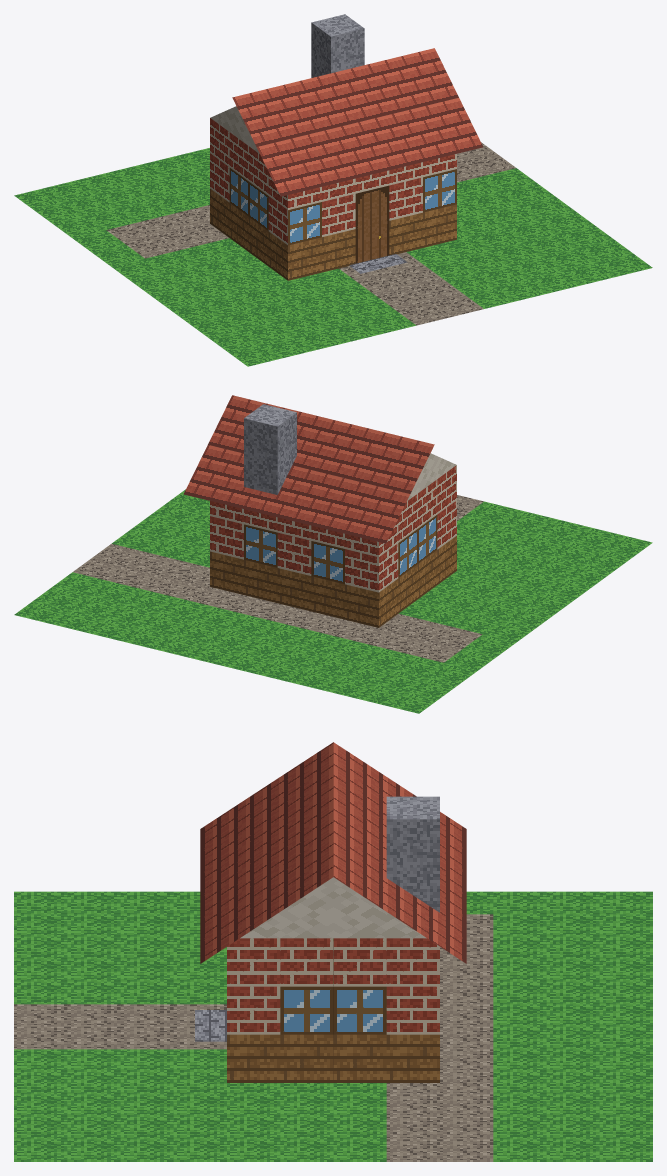
Rendered from models.glb.
3 renders of one model, top to bottom at view 1: azimuth 30°, elevation 25°; view 2: azimuth 150°, elevation 25°; view 3: azimuth 270°, elevation 25°, orthographic. The views are drawn at different scales.
Parts seen in each view (by area): view 1: ground, house; view 2: ground, house; view 3: ground, house.
Part boxes in pixels (x1,y1,x2,y2): ground: (14, 142, 652, 366); house: (210, 14, 482, 280); ground: (14, 489, 652, 713); house: (184, 395, 456, 627); ground: (14, 891, 652, 1161); house: (195, 742, 466, 1082).
Size of the model in its own units: 12 by 5 by 12.
Materials: 1 (1 with a texture image).
